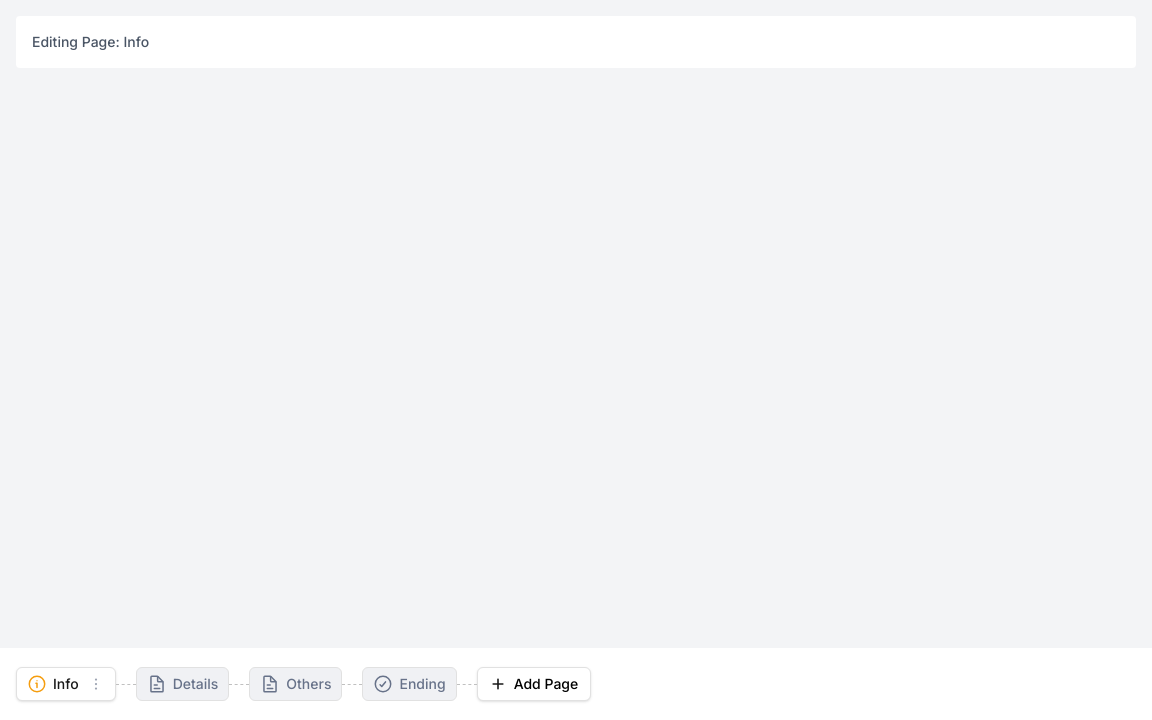
FormBuilder › Renders the context menu
Click the button with test id "page-nav-item" showing "Details" at (182, 684), box x1=136 y1=667 x2=229 y2=701
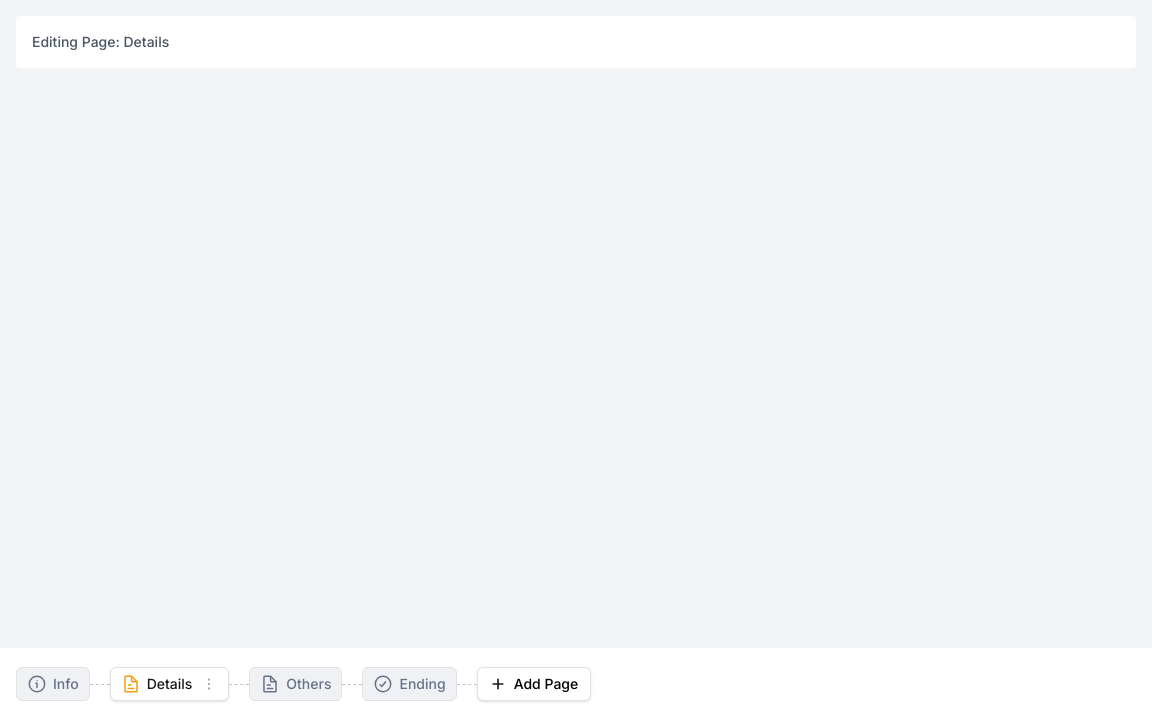
Expected: the text with test id "page-editor-info" reads "Editing Page: Details", x1=32 y1=33 x2=169 y2=50
Click the button with class "context-menu-trigger" at (209, 684), box x1=200 y1=675 x2=218 y2=693
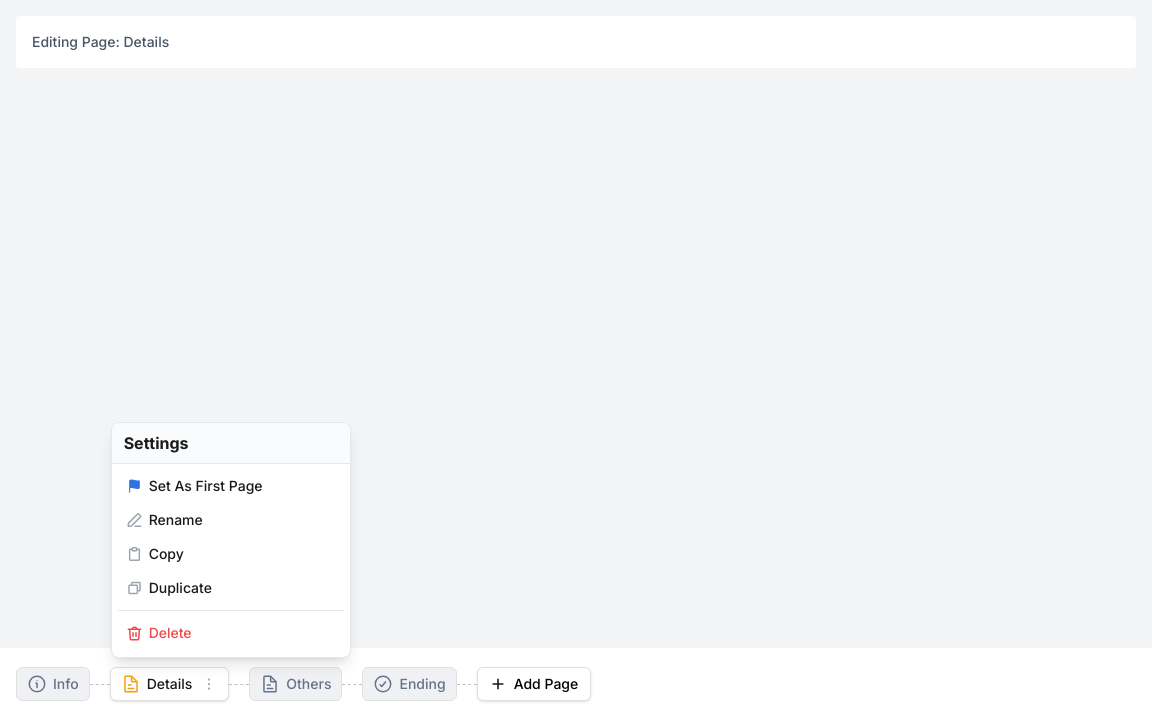
Expected: the menu with test id "context-menu" is shown, x1=111 y1=422 x2=351 y2=658
Expected: the element with test id "context-menu-items" is shown, x1=126 y1=477 x2=262 y2=642
Expected: the element with test id "context-menu-items" shows "Set as first page", x1=149 y1=477 x2=262 y2=494
